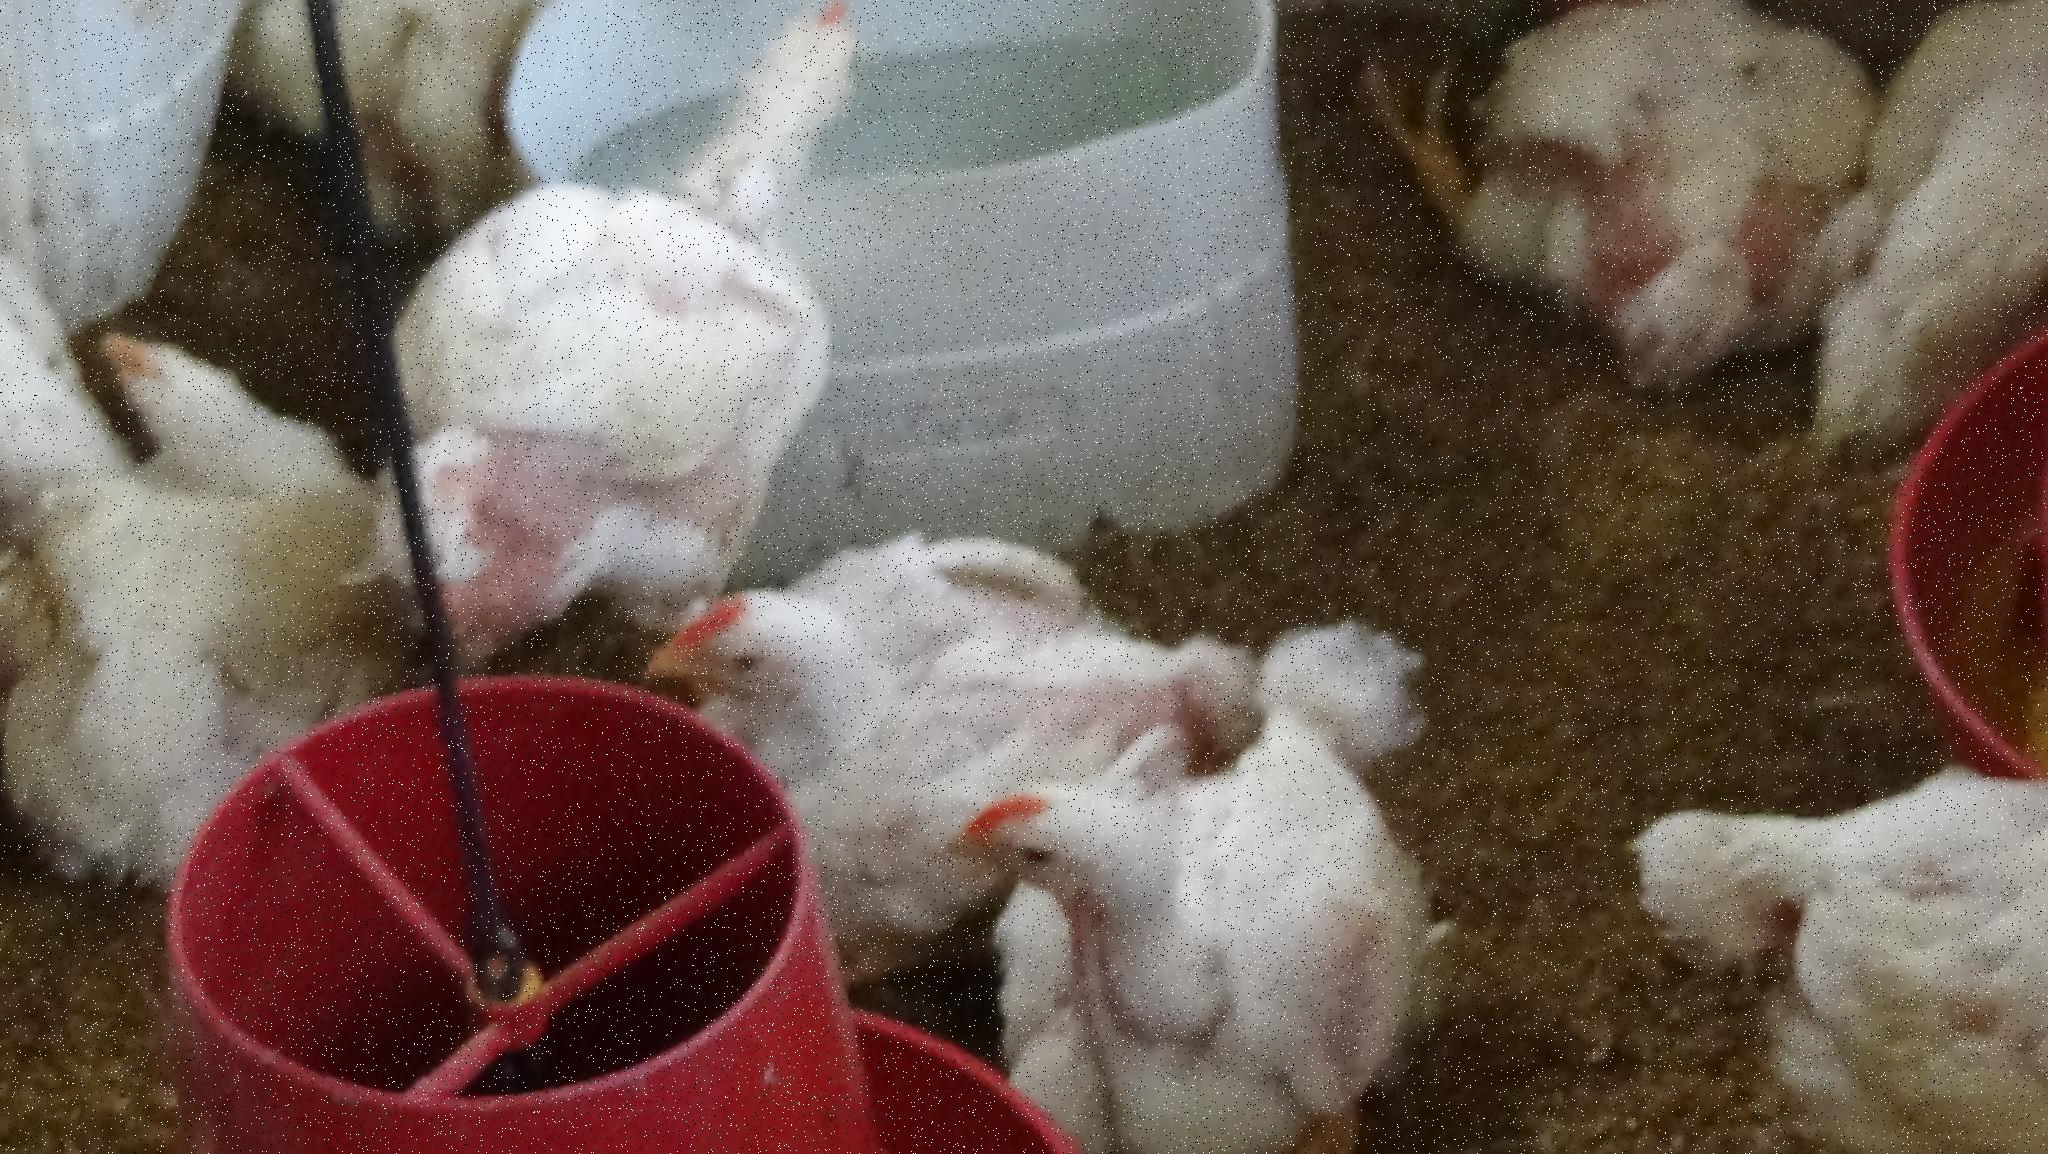Pollos: (360, 1, 876, 592), (952, 732, 1416, 1146), (1626, 722, 2048, 1154), (1357, 4, 1829, 390), (68, 321, 384, 837), (663, 571, 1215, 801), (1816, 10, 2048, 433)
